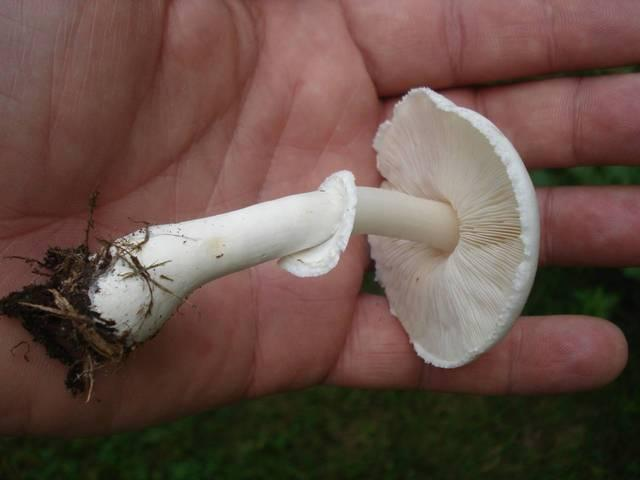poisonous_mushroom: (359, 85, 541, 369)
